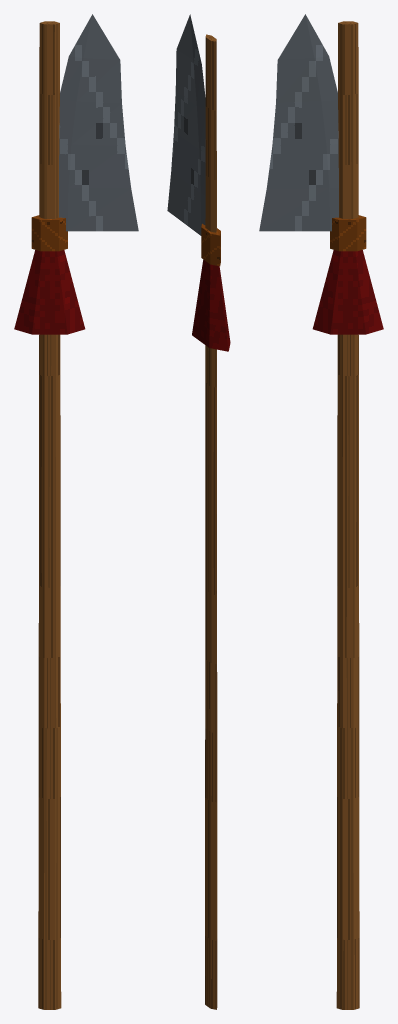
File: guja_hoja_ancha.glb
3 renders of one model, left to right at view 1: azimuth 90°, elevation 25°; view 2: azimuth 210°, elevation 25°; view 3: azimuth 270°, elevation 25°, orthographic.
Visible parts, largest first — view 1: asta, hoja, borla, virola; view 2: asta, hoja, borla, virola; view 3: asta, hoja, borla, virola.
Part boxes in pixels (box(x1,y1,x2,y2)): asta: box(38, 21, 61, 1009); hoja: box(59, 14, 138, 231); borla: box(14, 250, 85, 334); virola: box(31, 215, 67, 251); asta: box(205, 34, 217, 1009); hoja: box(167, 14, 205, 235); borla: box(192, 259, 230, 351); virola: box(201, 223, 220, 266); asta: box(336, 21, 359, 1009); hoja: box(259, 14, 338, 231); borla: box(312, 250, 383, 334); virola: box(330, 215, 366, 251).
Bounding box in the file's own units: 0.05 × 2.2 × 0.25.
Materials: 1 (1 with a texture image).
